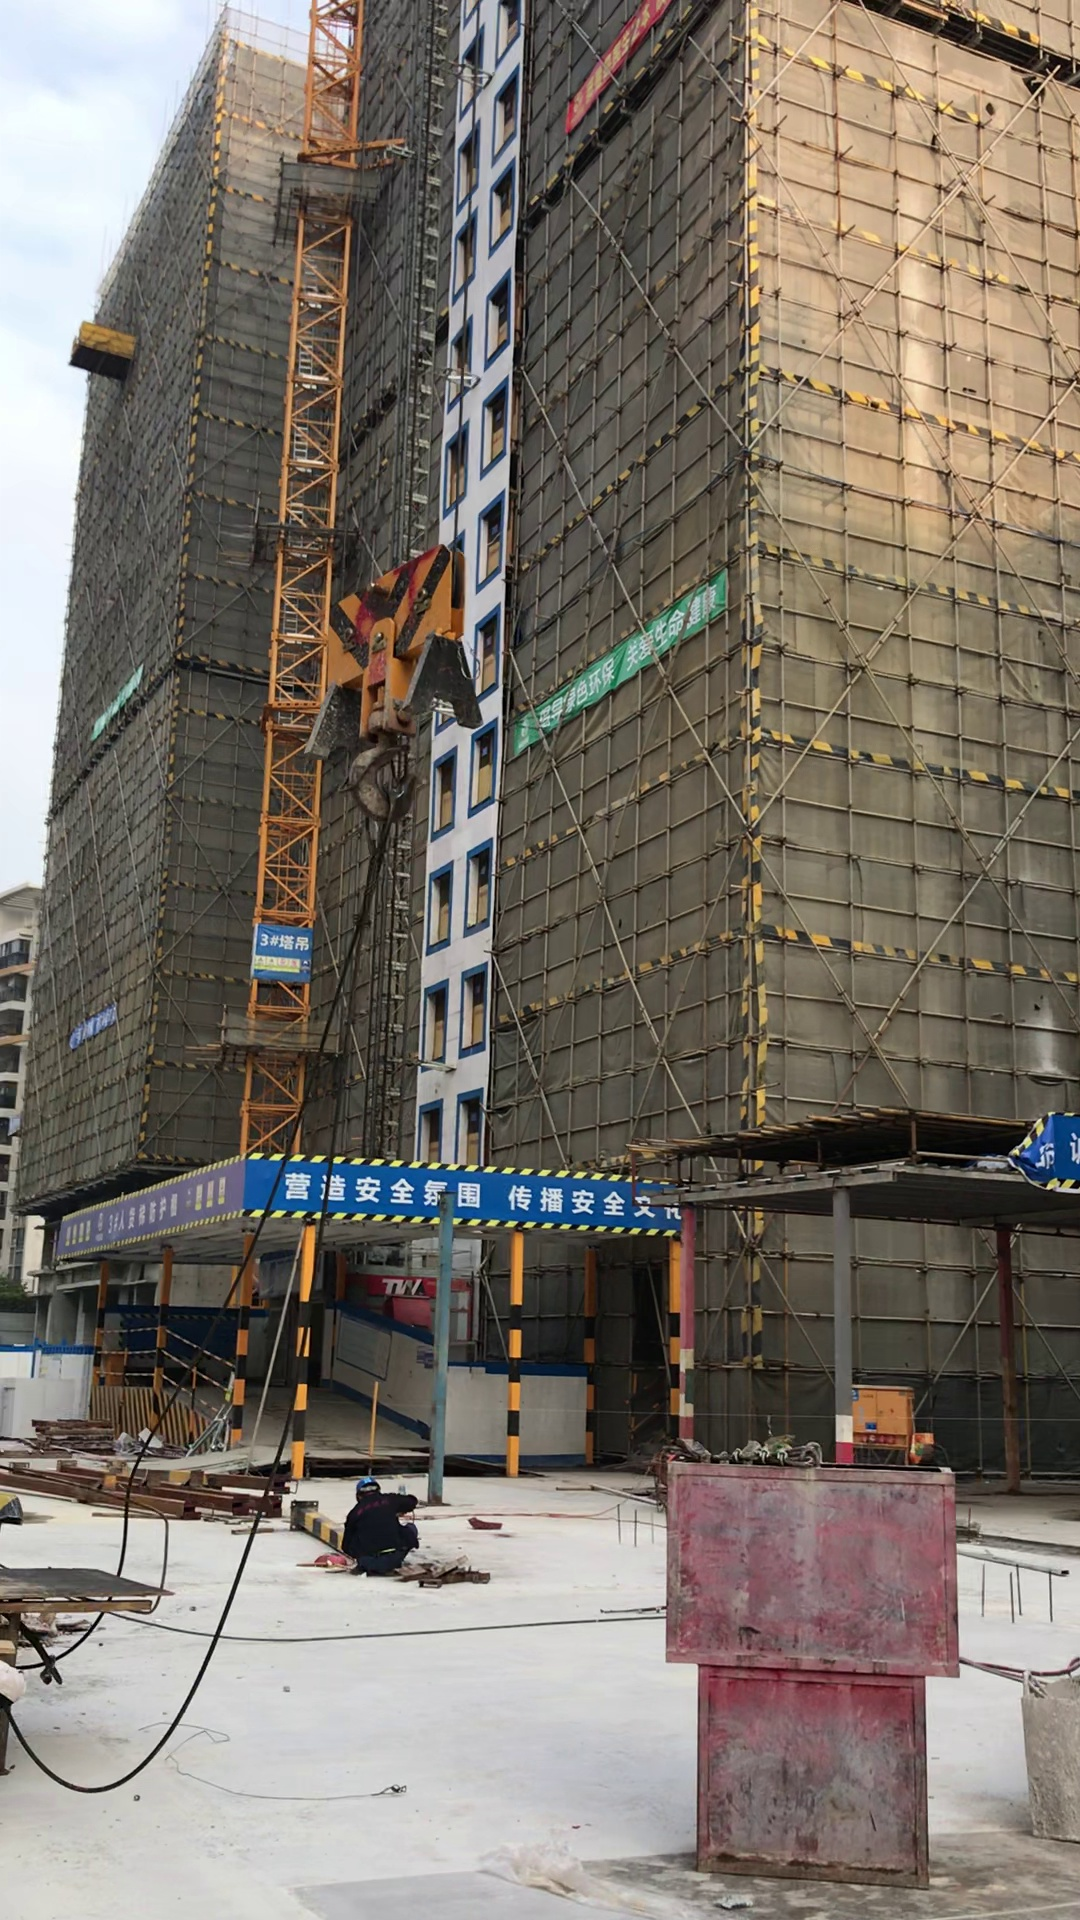ebox: (854, 1383, 920, 1451)
helmet: (353, 1474, 383, 1495)
hook: (301, 524, 480, 836)
person: (316, 1465, 439, 1584)
slogan: (517, 564, 719, 757), (253, 1153, 672, 1230), (49, 1155, 251, 1267), (87, 659, 148, 739), (68, 1002, 124, 1046)
